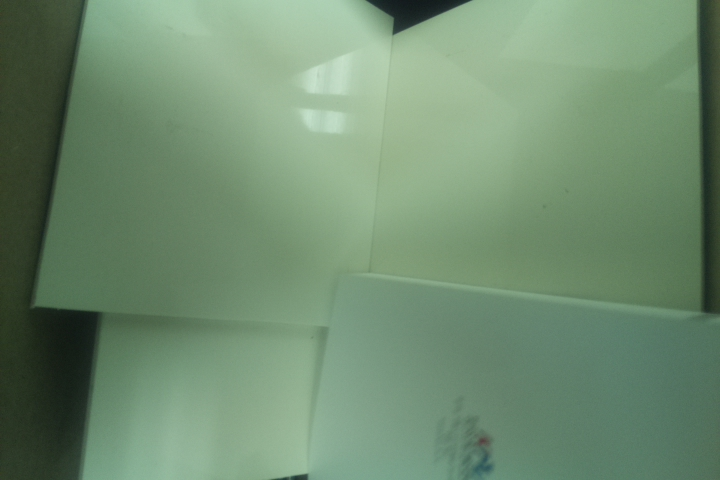book: (304, 269, 720, 479)
